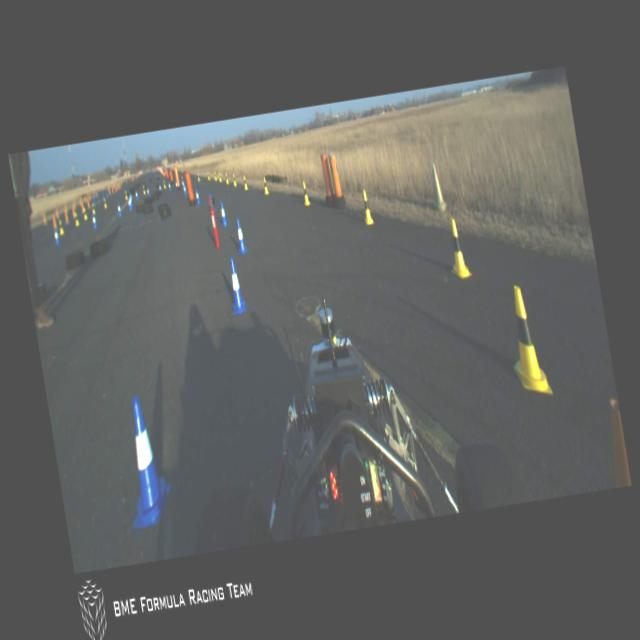blue_cone: (114, 394, 177, 528), (225, 256, 247, 314), (234, 217, 248, 254), (218, 202, 228, 226), (91, 214, 98, 229), (194, 188, 200, 205), (182, 180, 188, 197), (54, 229, 60, 246), (116, 202, 122, 218), (146, 188, 150, 198), (168, 182, 171, 191), (136, 191, 138, 200)
unknown_cone: (428, 162, 448, 213)
yellow_cone: (502, 284, 553, 399), (444, 218, 472, 280), (360, 189, 374, 225), (301, 180, 310, 206), (58, 220, 65, 236), (263, 177, 269, 195), (242, 175, 248, 190), (74, 213, 80, 226), (232, 173, 237, 186), (83, 207, 88, 220), (224, 172, 229, 184), (91, 203, 96, 214), (218, 172, 222, 182), (103, 198, 107, 208), (124, 190, 128, 200), (142, 186, 146, 194), (207, 171, 210, 180), (197, 172, 200, 181), (163, 180, 166, 189), (214, 172, 216, 180)
